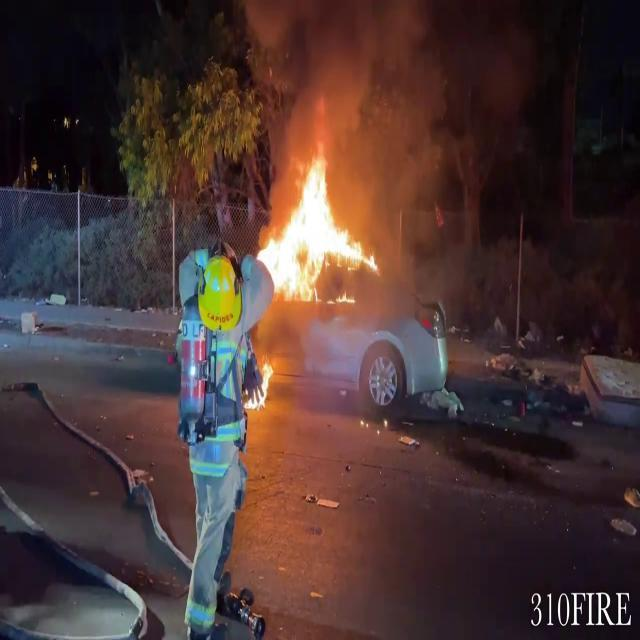Fire: (262, 166, 382, 316), (251, 361, 277, 411)
Smoke: (240, 0, 533, 190)
